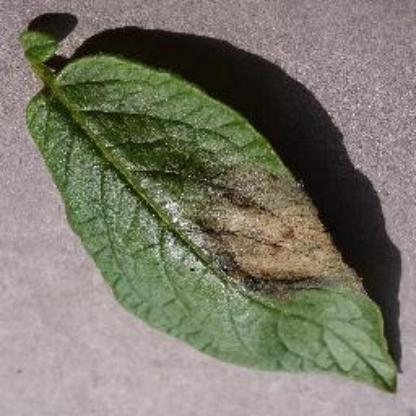Late-Blight: (6, 24, 404, 398)
